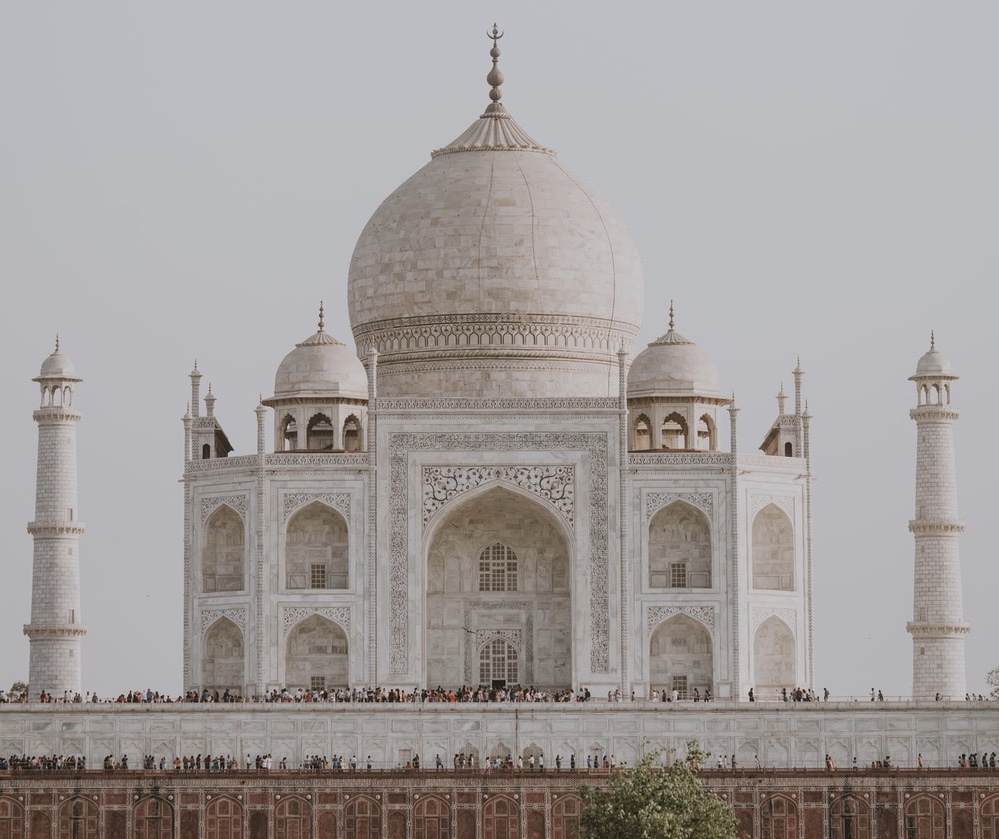Mosque: (31, 46, 968, 732)
